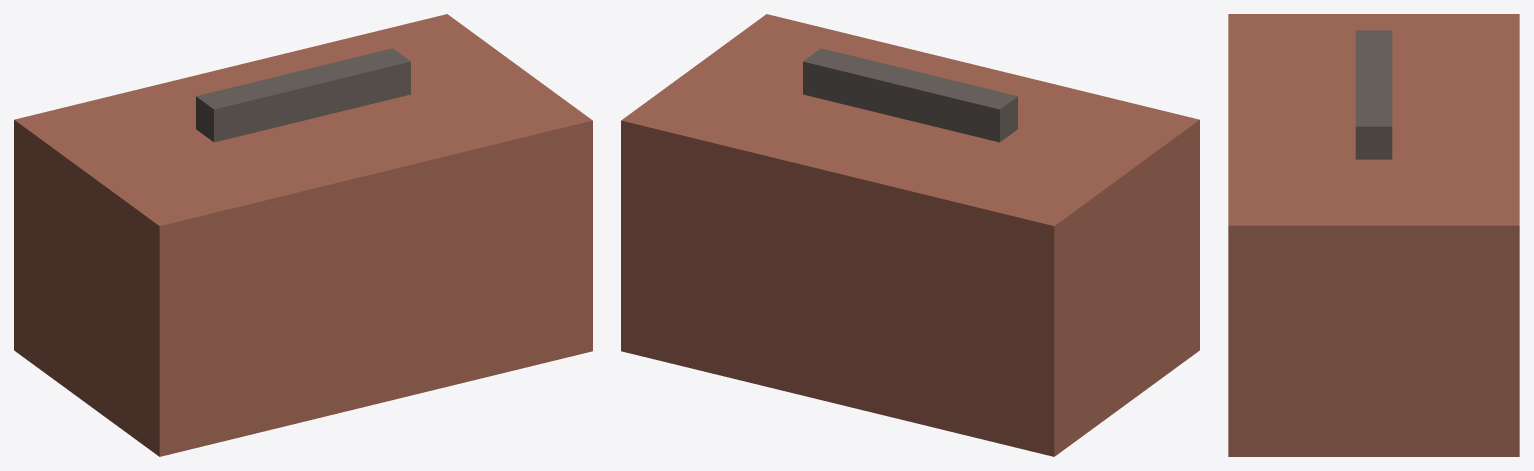
File: toolbox.glb
The picture shows the model from 3 angles, left to right: view 1: azimuth 30°, elevation 25°; view 2: azimuth 150°, elevation 25°; view 3: azimuth 270°, elevation 25°; orthographic projection.
Parts seen in each view (by area): view 1: geometry_0; view 2: geometry_0; view 3: geometry_0.
Part boxes in pixels (left/top/right/bottom): geometry_0: left=14, top=14, right=592, bottom=456; geometry_0: left=621, top=14, right=1199, bottom=456; geometry_0: left=1228, top=14, right=1519, bottom=456.
Size of the model in its own units: 0.55 by 0.33 by 0.32.
